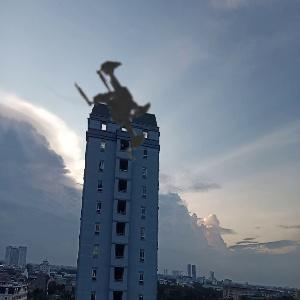drone: (37, 10, 218, 191)
